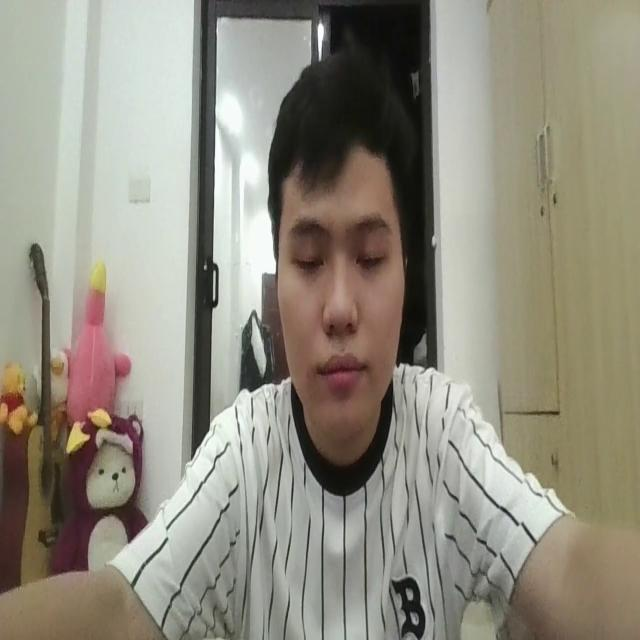student: (42, 51, 588, 640)
